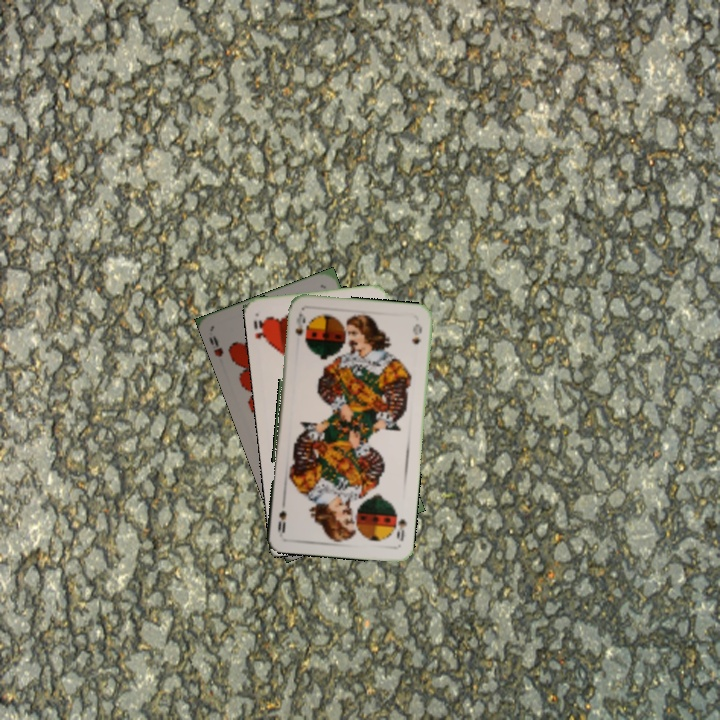H9: (205, 331, 226, 359)
HO: (249, 312, 270, 348)
SO: (391, 508, 409, 544), (291, 309, 308, 338)
